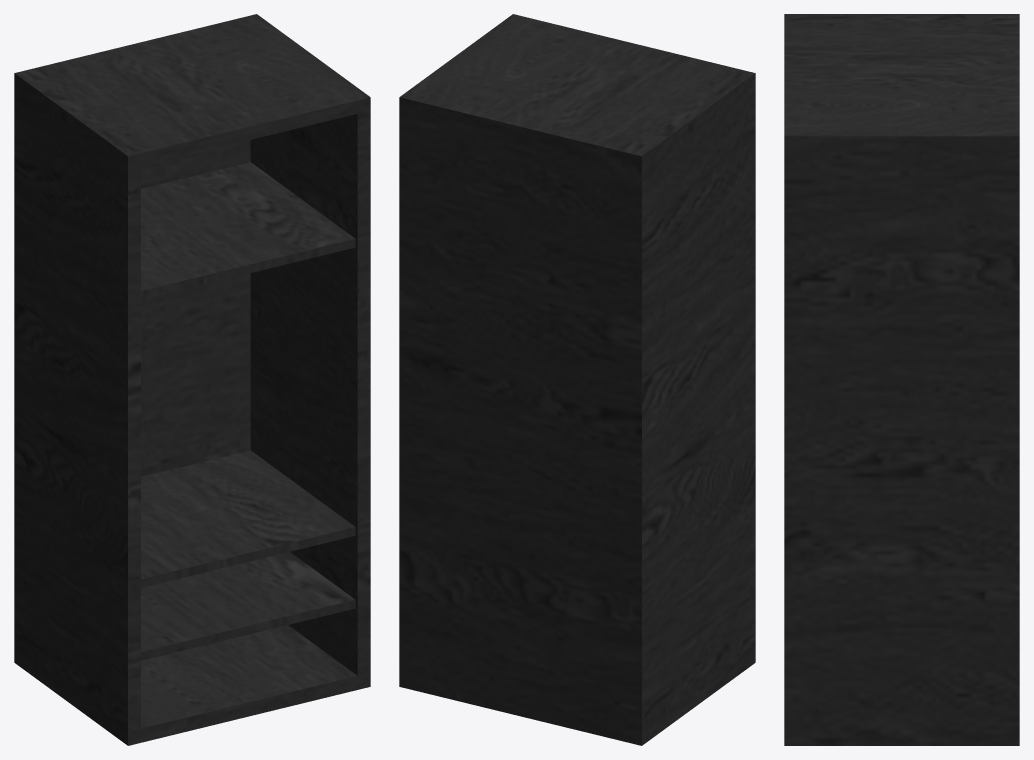
The model's file is Closet15.fbx.
The picture shows the model from 3 angles, left to right: view 1: azimuth 30°, elevation 25°; view 2: azimuth 150°, elevation 25°; view 3: azimuth 270°, elevation 25°; orthographic projection. The views are drawn at different scales.
Visible parts, largest first — view 1: Closet15; view 2: Closet15; view 3: Closet15.
Part boxes in pixels (x1,y1,x2,y2): Closet15: [14, 14, 370, 745]; Closet15: [399, 14, 755, 745]; Closet15: [784, 14, 1019, 745].
Size of the model in its own units: 109 by 254 by 88.93.
